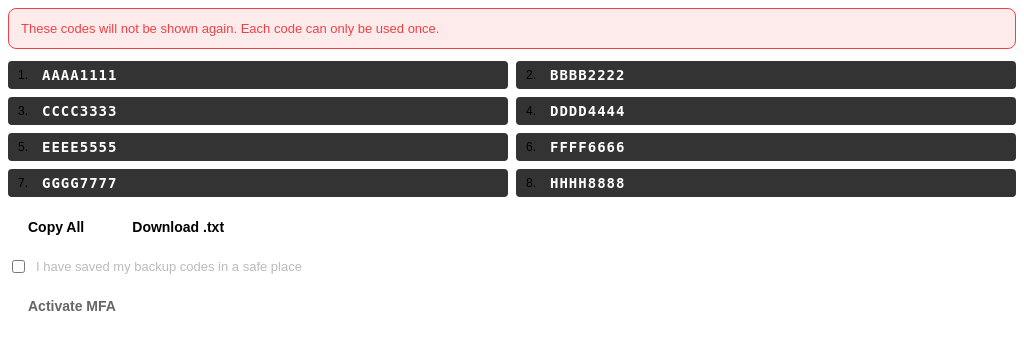
it: BackupCodeDisplay › Activate MFA button is enabled after checkbox is checked
This screenshot has width=1024, height=341.
Click the checkbox at (18, 266), box [12, 260, 25, 273]
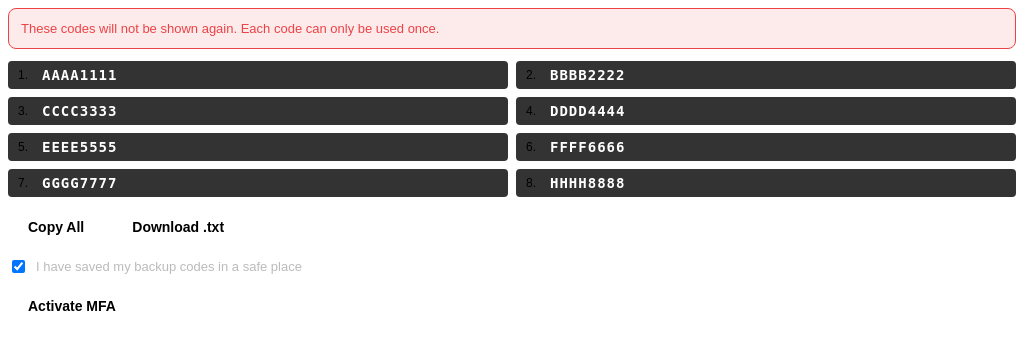
Expected: the button "Activate MFA" is enabled, [8, 288, 1016, 324]
